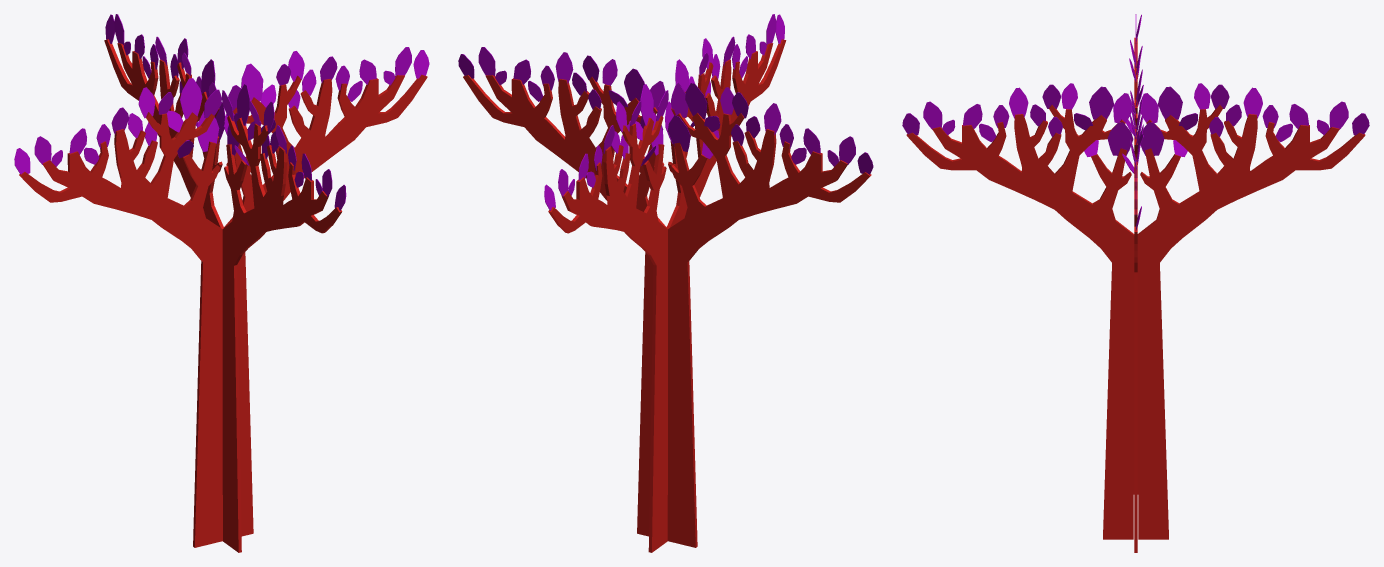
Rendered from slot_tree.obj.
3 views of the same model, side by side, from view 1: azimuth 30°, elevation 25°; view 2: azimuth 150°, elevation 25°; view 3: azimuth 270°, elevation 25° (orthographic). The views are drawn at different scales.
Parts seen in each view (by area): view 1: Plane, Plane.001, Plane.002, Plane.004; view 2: Plane, Plane.001, Plane.002, Plane.004; view 3: Plane.001, Plane.004, Plane, Plane.002.
Part boxes in pixels (<box>): Plane: <box>19,74,427,547</box>; Plane.001: <box>104,39,342,552</box>; Plane.002: <box>14,47,429,174</box>; Plane.004: <box>105,14,346,210</box>; Plane: <box>463,75,871,547</box>; Plane.001: <box>548,39,786,552</box>; Plane.002: <box>458,47,873,174</box>; Plane.004: <box>544,14,784,210</box>; Plane.001: <box>906,105,1365,539</box>; Plane.004: <box>902,83,1369,156</box>; Plane: <box>1134,37,1137,552</box>; Plane.002: <box>1122,14,1143,230</box>.
Size of the model in its own units: 7.91 by 8.53 by 7.91.
